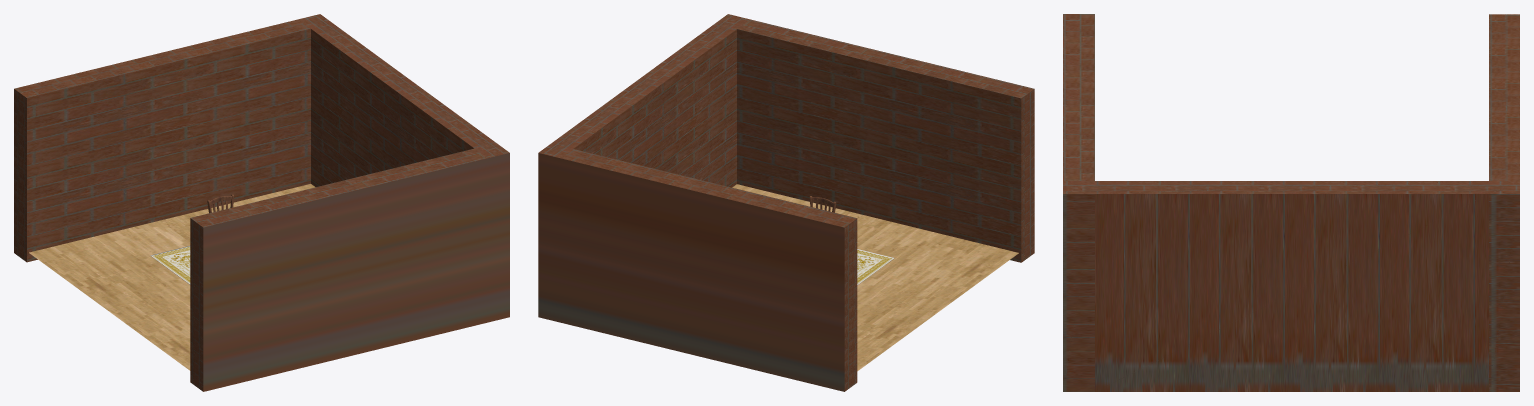
Rendered from diningroom.dae.
3 views of the same model, side by side, from view 1: azimuth 30°, elevation 25°; view 2: azimuth 150°, elevation 25°; view 3: azimuth 270°, elevation 25° (orthographic). The views are drawn at different scales.
Visible parts, largest first — view 1: walls1, floor, carpet; view 2: walls1, floor, carpet; view 3: walls1.
Part boxes in pixels (<box>): walls1: <box>14,14,509,391</box>; floor: <box>29,184,315,370</box>; carpet: <box>150,246,190,284</box>; walls1: <box>538,14,1034,391</box>; floor: <box>732,184,1018,371</box>; carpet: <box>857,249,894,285</box>; walls1: <box>1063,14,1519,391</box>.
Size of the model in its own units: 44.32 by 22.71 by 47.52.
